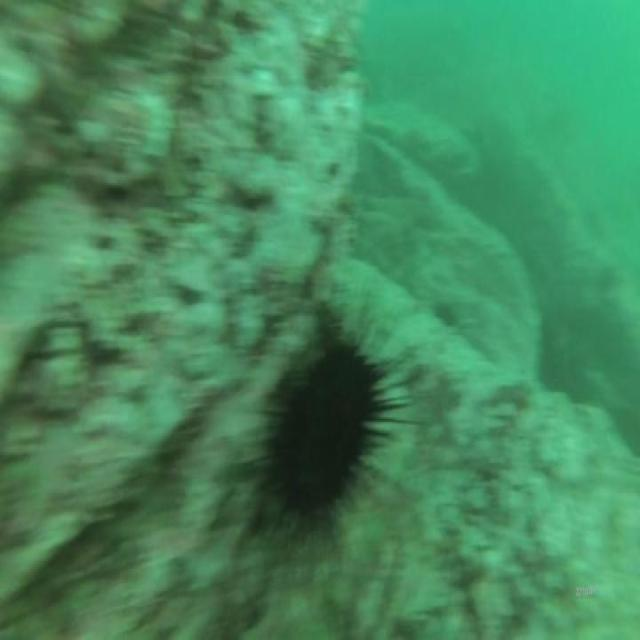echinus: (234, 310, 415, 564)
